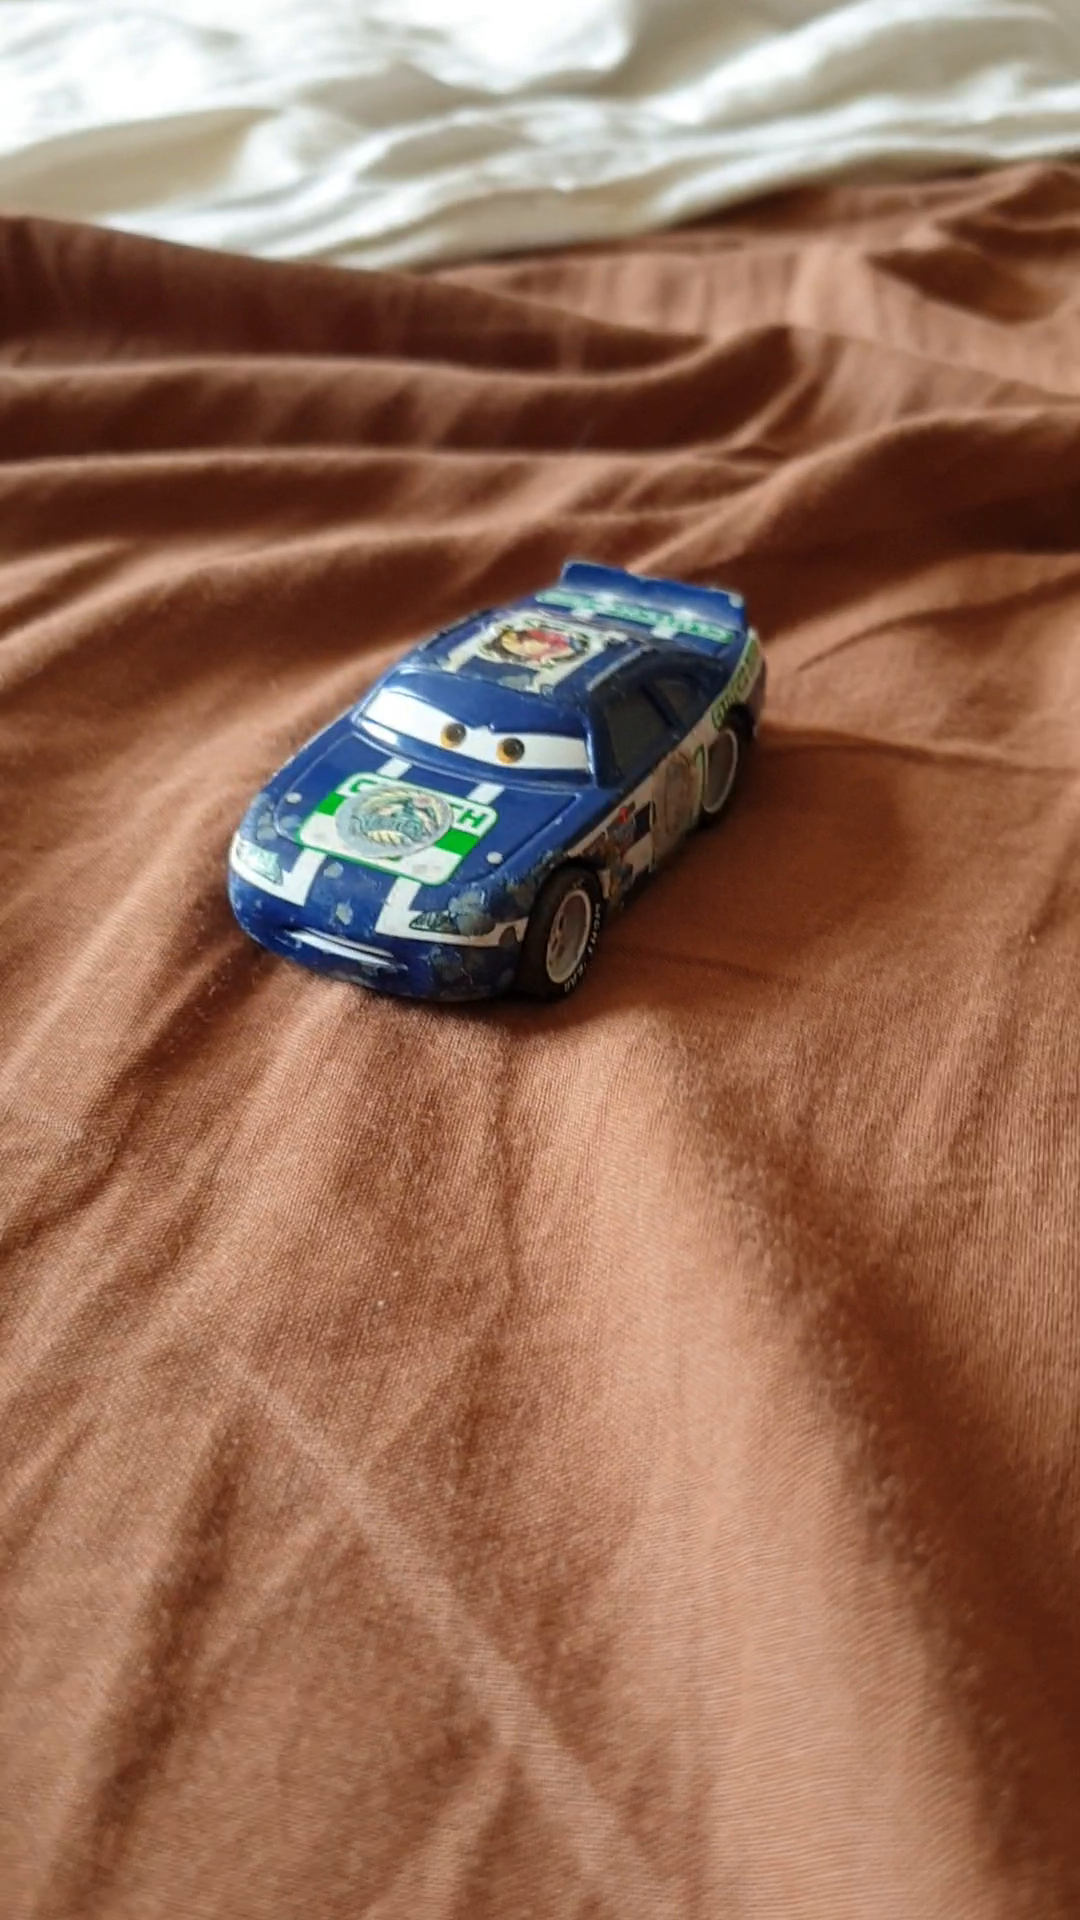cars: (214, 564, 769, 1022)
